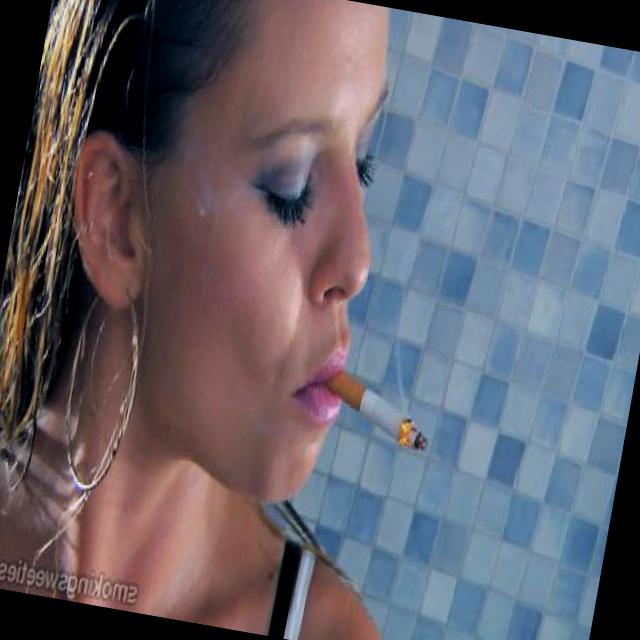smoke: (292, 332, 451, 476)
